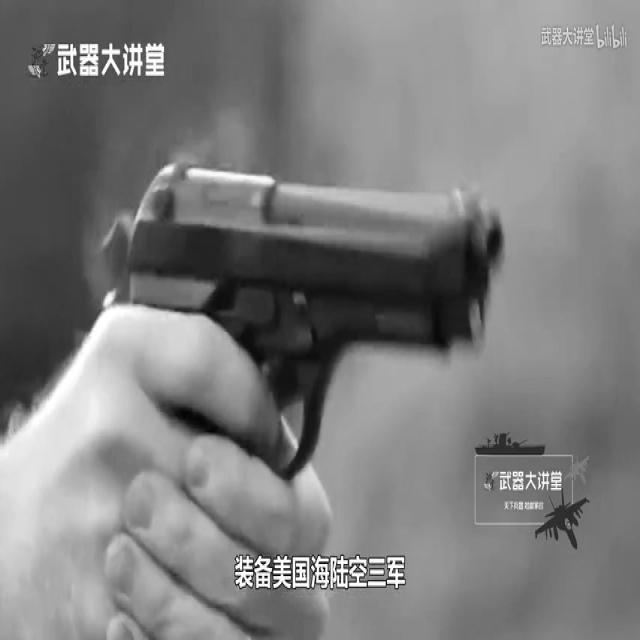Hand-Gun: (64, 132, 524, 555)
